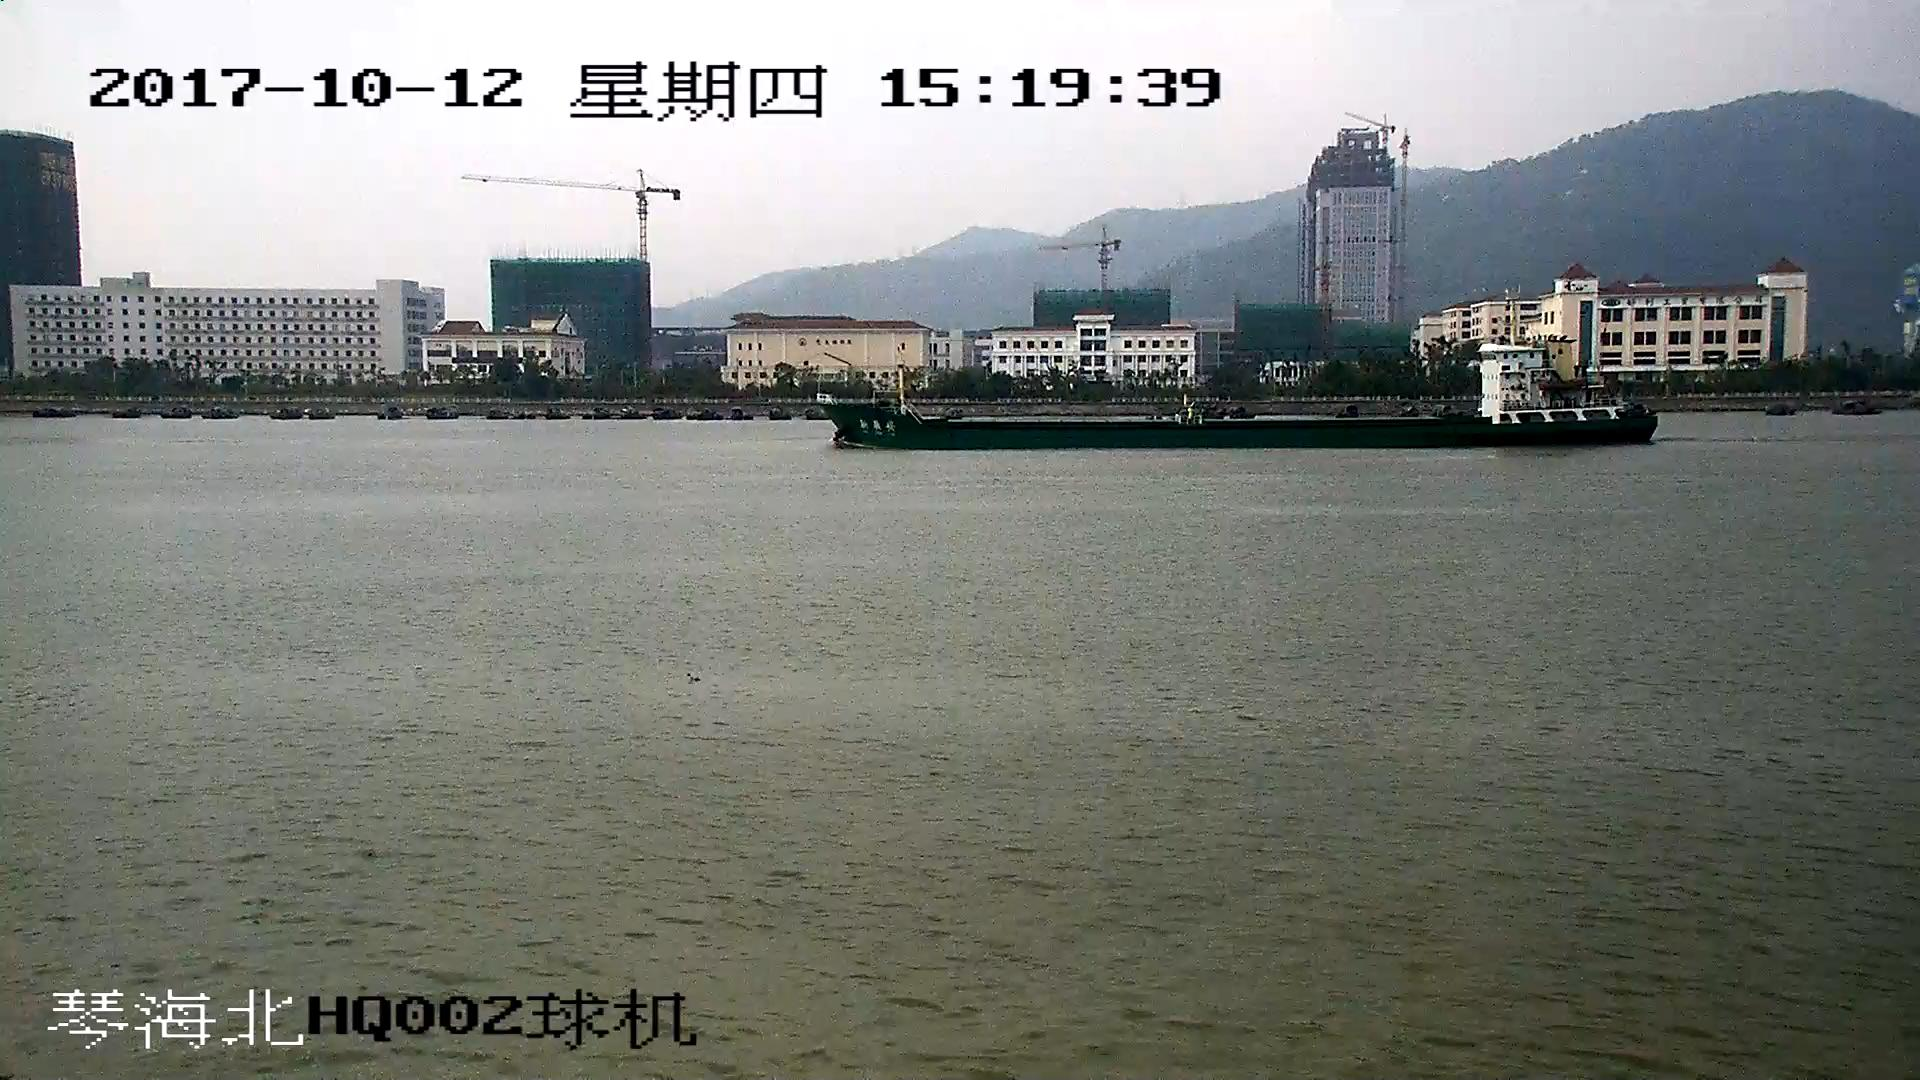general cargo ship: (819, 314, 1655, 449)
